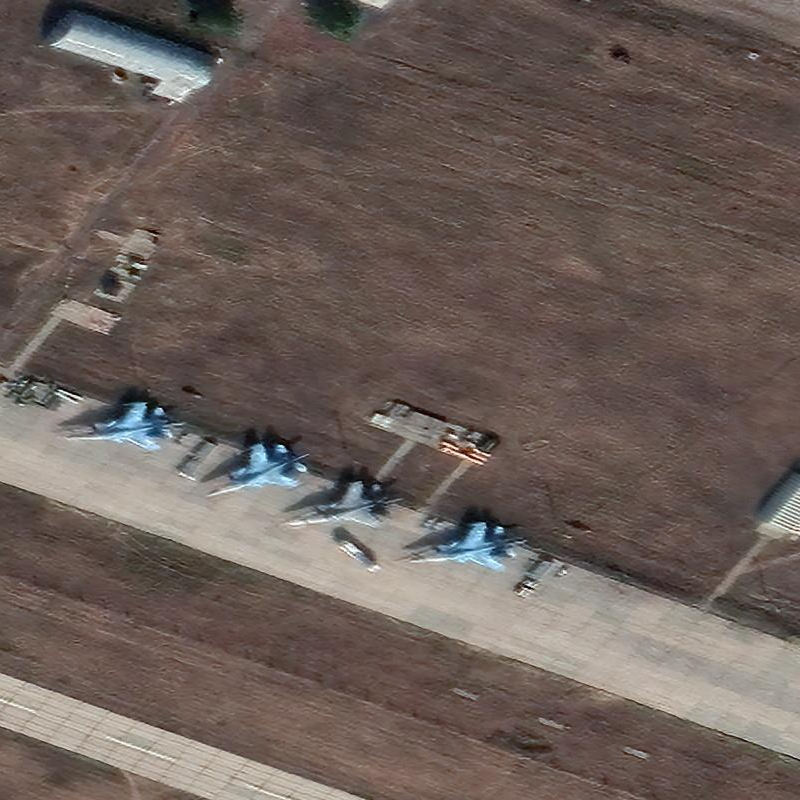A19: (407, 518, 532, 576), (63, 398, 190, 455), (281, 477, 408, 531), (203, 440, 313, 499)
